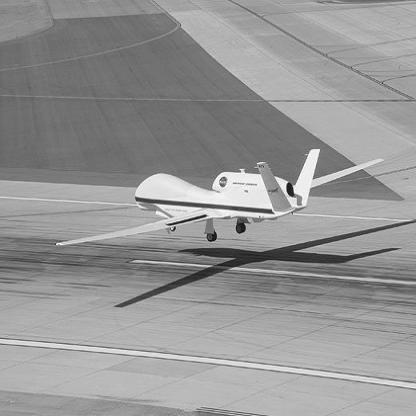RQ4: (55, 149, 386, 247)
